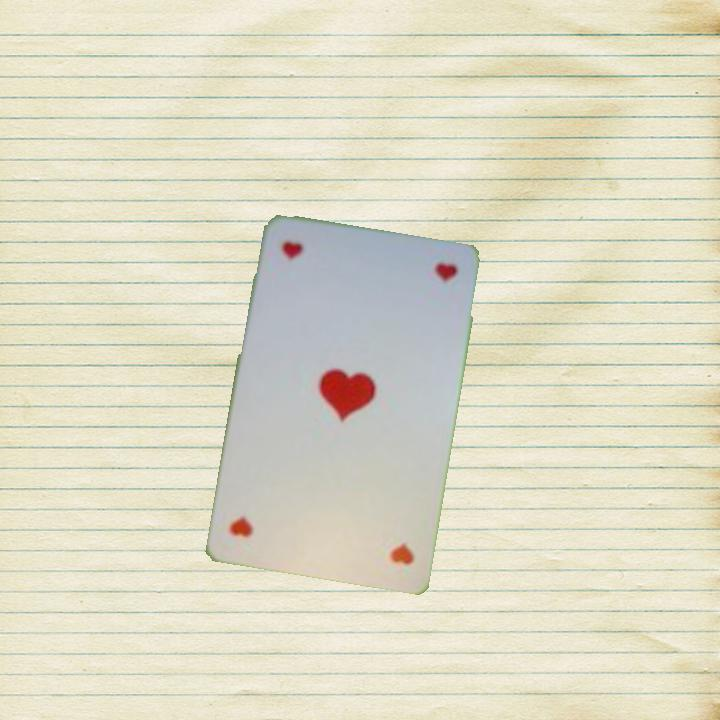h_a.png: (261, 228, 373, 329), (315, 477, 427, 577)
